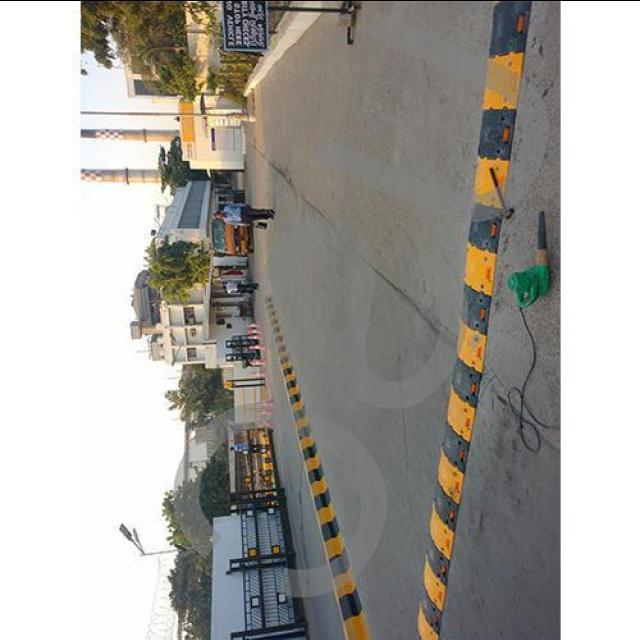speedbreaker: (408, 0, 546, 640)
